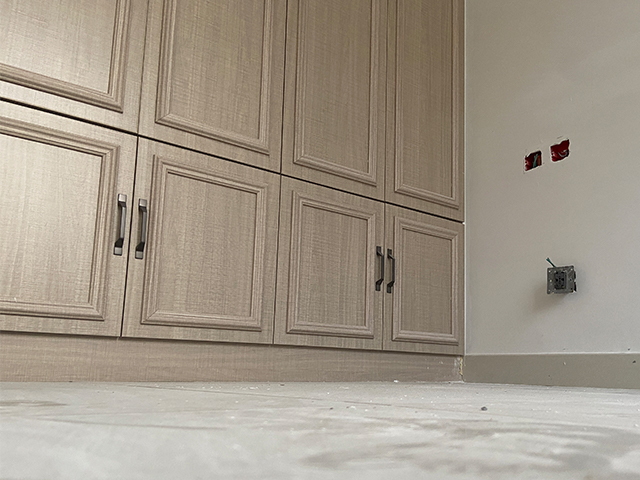cabinet: (1, 1, 467, 385)
